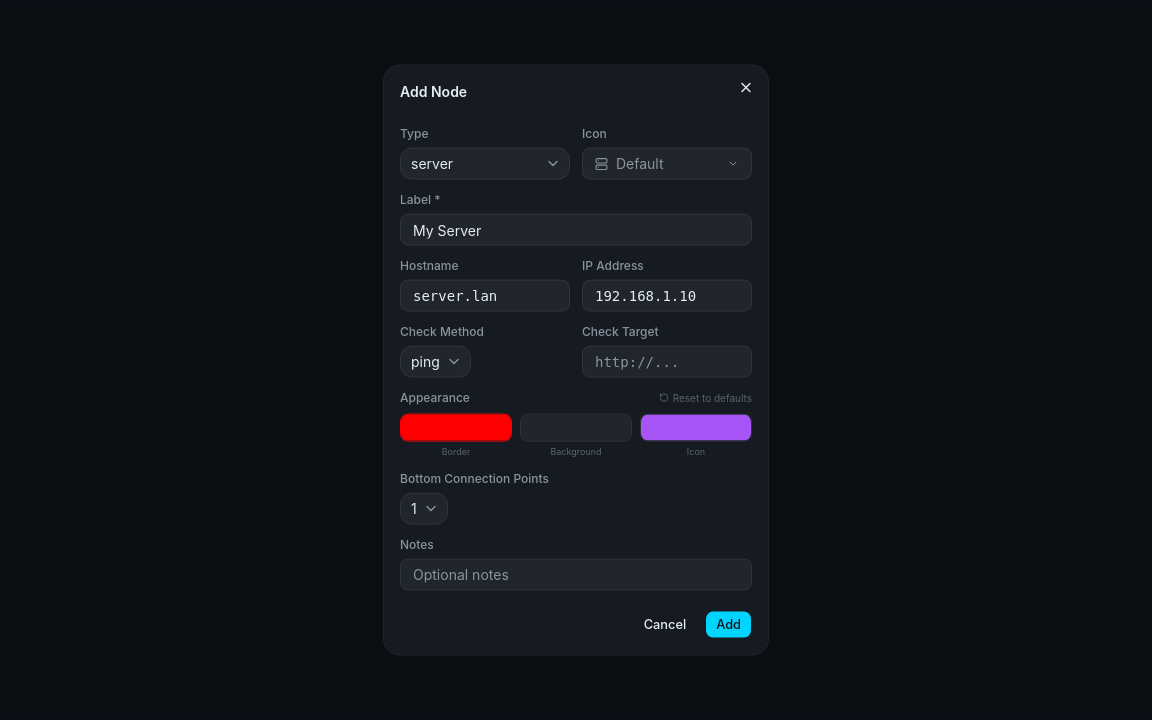
NodeModal › resets custom_colors on Reset to defaults click
Click the button "Reset to defaults". click: [705, 398]
box: [659,390,752,405]
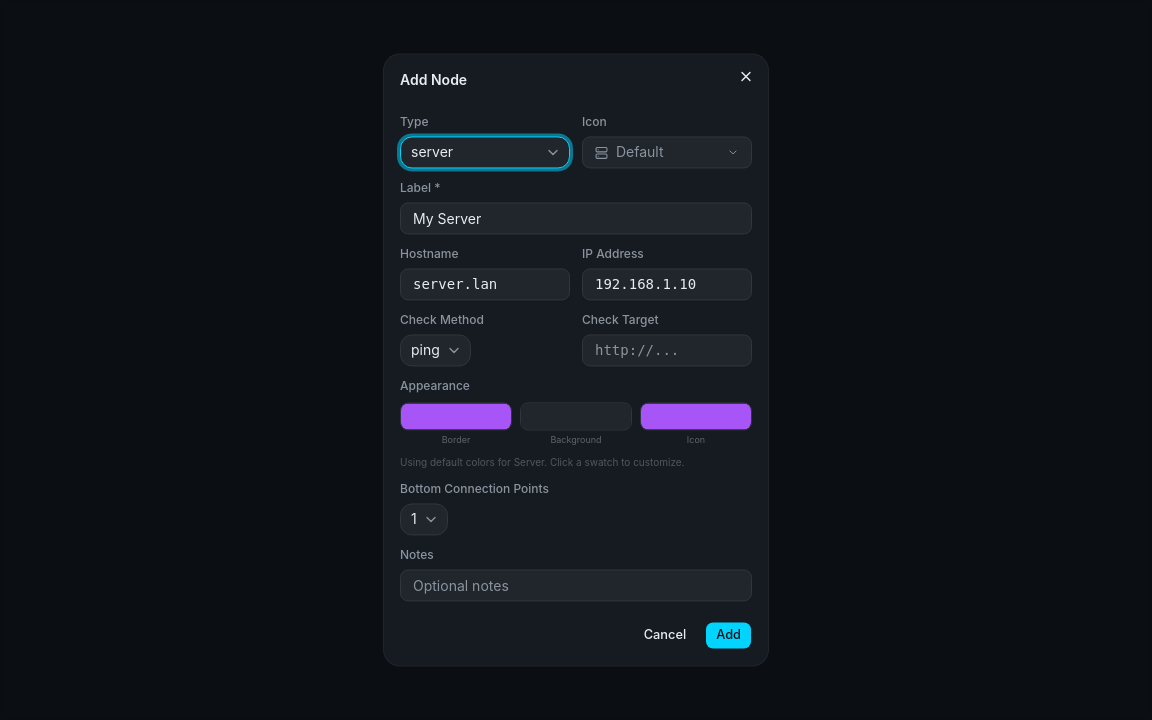
Check: the button "Reset to defaults" is gone
Check: the text "Using default colors for" is shown, box [400,456,514,468]
